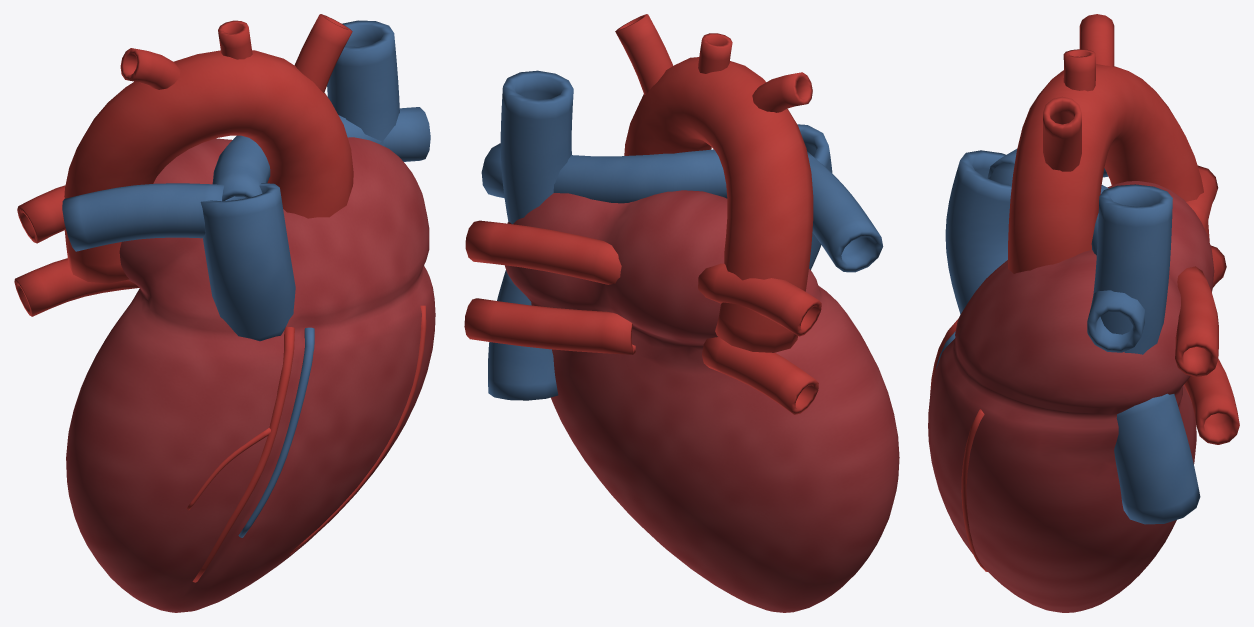
Rendered from heart.glb.
The picture shows the model from 3 angles, left to right: view 1: azimuth 30°, elevation 25°; view 2: azimuth 150°, elevation 25°; view 3: azimuth 270°, elevation 25°; orthographic projection. The views are drawn at different scales.
Parts seen in each view (by area): view 1: Heart ventricular and atrial myocardium, Ascending aorta and aortic arch, Pulmonary trunk, Left pulmonary artery, Superior vena cava, Right pulmonary artery, Left inferior pulmonary vein, Brachiocephalic artery, Anterior interventricular artery, Left superior pulmonary vein, Great cardiac vein, Left subclavian artery (+3 smaller); view 2: Heart ventricular and atrial myocardium, Ascending aorta and aortic arch, Superior vena cava, Right pulmonary artery, Right inferior pulmonary vein, Right superior pulmonary vein, Left pulmonary artery, Left superior pulmonary vein, Left inferior pulmonary vein, Inferior vena cava, Brachiocephalic artery, Left subclavian artery (+2 smaller); view 3: Heart ventricular and atrial myocardium, Ascending aorta and aortic arch, Superior vena cava, Inferior vena cava, Pulmonary trunk, Right superior pulmonary vein, Right pulmonary artery, Right inferior pulmonary vein, Brachiocephalic artery, Left subclavian artery, Left common carotid artery, Right marginal coronary artery (+1 smaller).
Boxes of the visible parts, box(x1,y1,x2,y2) form: Heart ventricular and atrial myocardium: box(66, 137, 435, 612); Ascending aorta and aortic arch: box(64, 50, 353, 283); Pulmonary trunk: box(200, 183, 295, 341); Left pulmonary artery: box(62, 183, 224, 251); Superior vena cava: box(327, 20, 399, 146); Right pulmonary artery: box(212, 107, 430, 201); Left inferior pulmonary vein: box(14, 258, 139, 316); Brachiocephalic artery: box(294, 14, 352, 92); Anterior interventricular artery: box(192, 327, 294, 582); Left superior pulmonary vein: box(17, 185, 65, 243); Great cardiac vein: box(238, 327, 314, 537); Left subclavian artery: box(120, 48, 180, 89); Heart ventricular and atrial myocardium: box(505, 190, 899, 612); Ascending aorta and aortic arch: box(624, 57, 813, 352); Superior vena cava: box(500, 70, 573, 224); Right pulmonary artery: box(481, 143, 727, 203); Right inferior pulmonary vein: box(464, 298, 635, 354); Right superior pulmonary vein: box(465, 220, 621, 284); Left pulmonary artery: box(807, 151, 883, 272); Left superior pulmonary vein: box(698, 263, 821, 336); Left inferior pulmonary vein: box(702, 337, 818, 414); Inferior vena cava: box(488, 270, 558, 400); Brachiocephalic artery: box(615, 14, 673, 94); Left subclavian artery: box(752, 72, 812, 112); Heart ventricular and atrial myocardium: box(928, 181, 1214, 612); Ascending aorta and aortic arch: box(1008, 64, 1209, 273); Superior vena cava: box(1093, 184, 1172, 354); Inferior vena cava: box(1114, 393, 1200, 524); Pulmonary trunk: box(945, 150, 1011, 314); Right superior pulmonary vein: box(1175, 266, 1218, 377); Right pulmonary artery: box(990, 162, 1144, 352); Right inferior pulmonary vein: box(1184, 359, 1239, 444); Brachiocephalic artery: box(1043, 96, 1081, 171); Left subclavian artery: box(1079, 14, 1114, 66); Left common carotid artery: box(1063, 49, 1095, 91); Right marginal coronary artery: box(961, 409, 987, 571).
Size of the model in its own units: 0.103 by 0.1483 by 0.072.
Materials: 3 (3 with a texture image).
